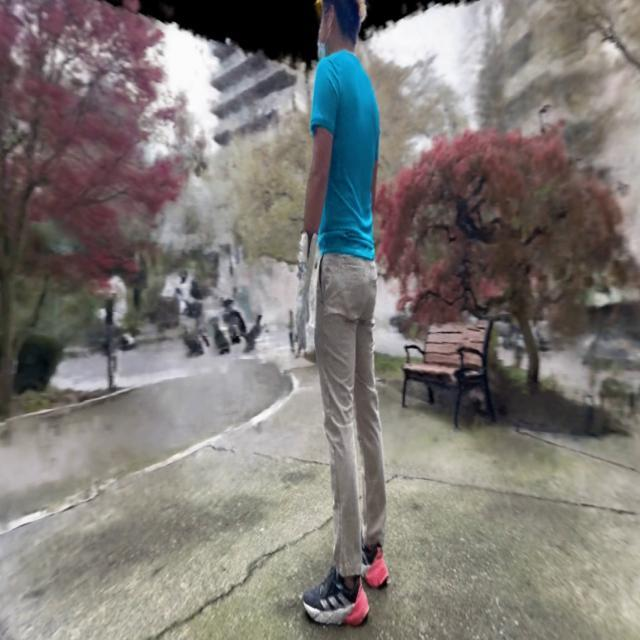gloves: (292, 231, 320, 361)
